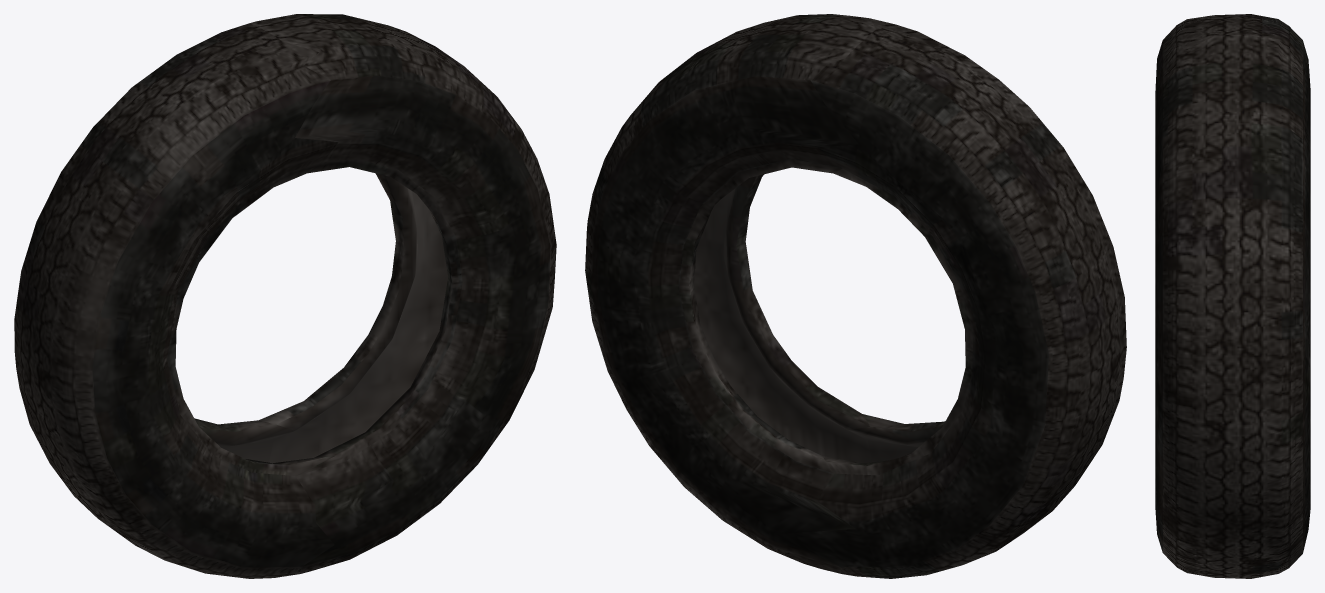
The model's file is tyre.glb.
3 renders of one model, left to right at view 1: azimuth 30°, elevation 25°; view 2: azimuth 150°, elevation 25°; view 3: azimuth 270°, elevation 25°, orthographic. The views are drawn at different scales.
Visible parts, largest first — view 1: old_tyre; view 2: old_tyre; view 3: old_tyre.
Boxes of the visible parts, box(x1,y1,x2,y2) form: old_tyre: box(14, 14, 556, 578); old_tyre: box(585, 14, 1126, 578); old_tyre: box(1155, 14, 1310, 578).
Bounding box in the file's own units: 0.6 × 0.5999 × 0.165.
1 material, 1 textured.
